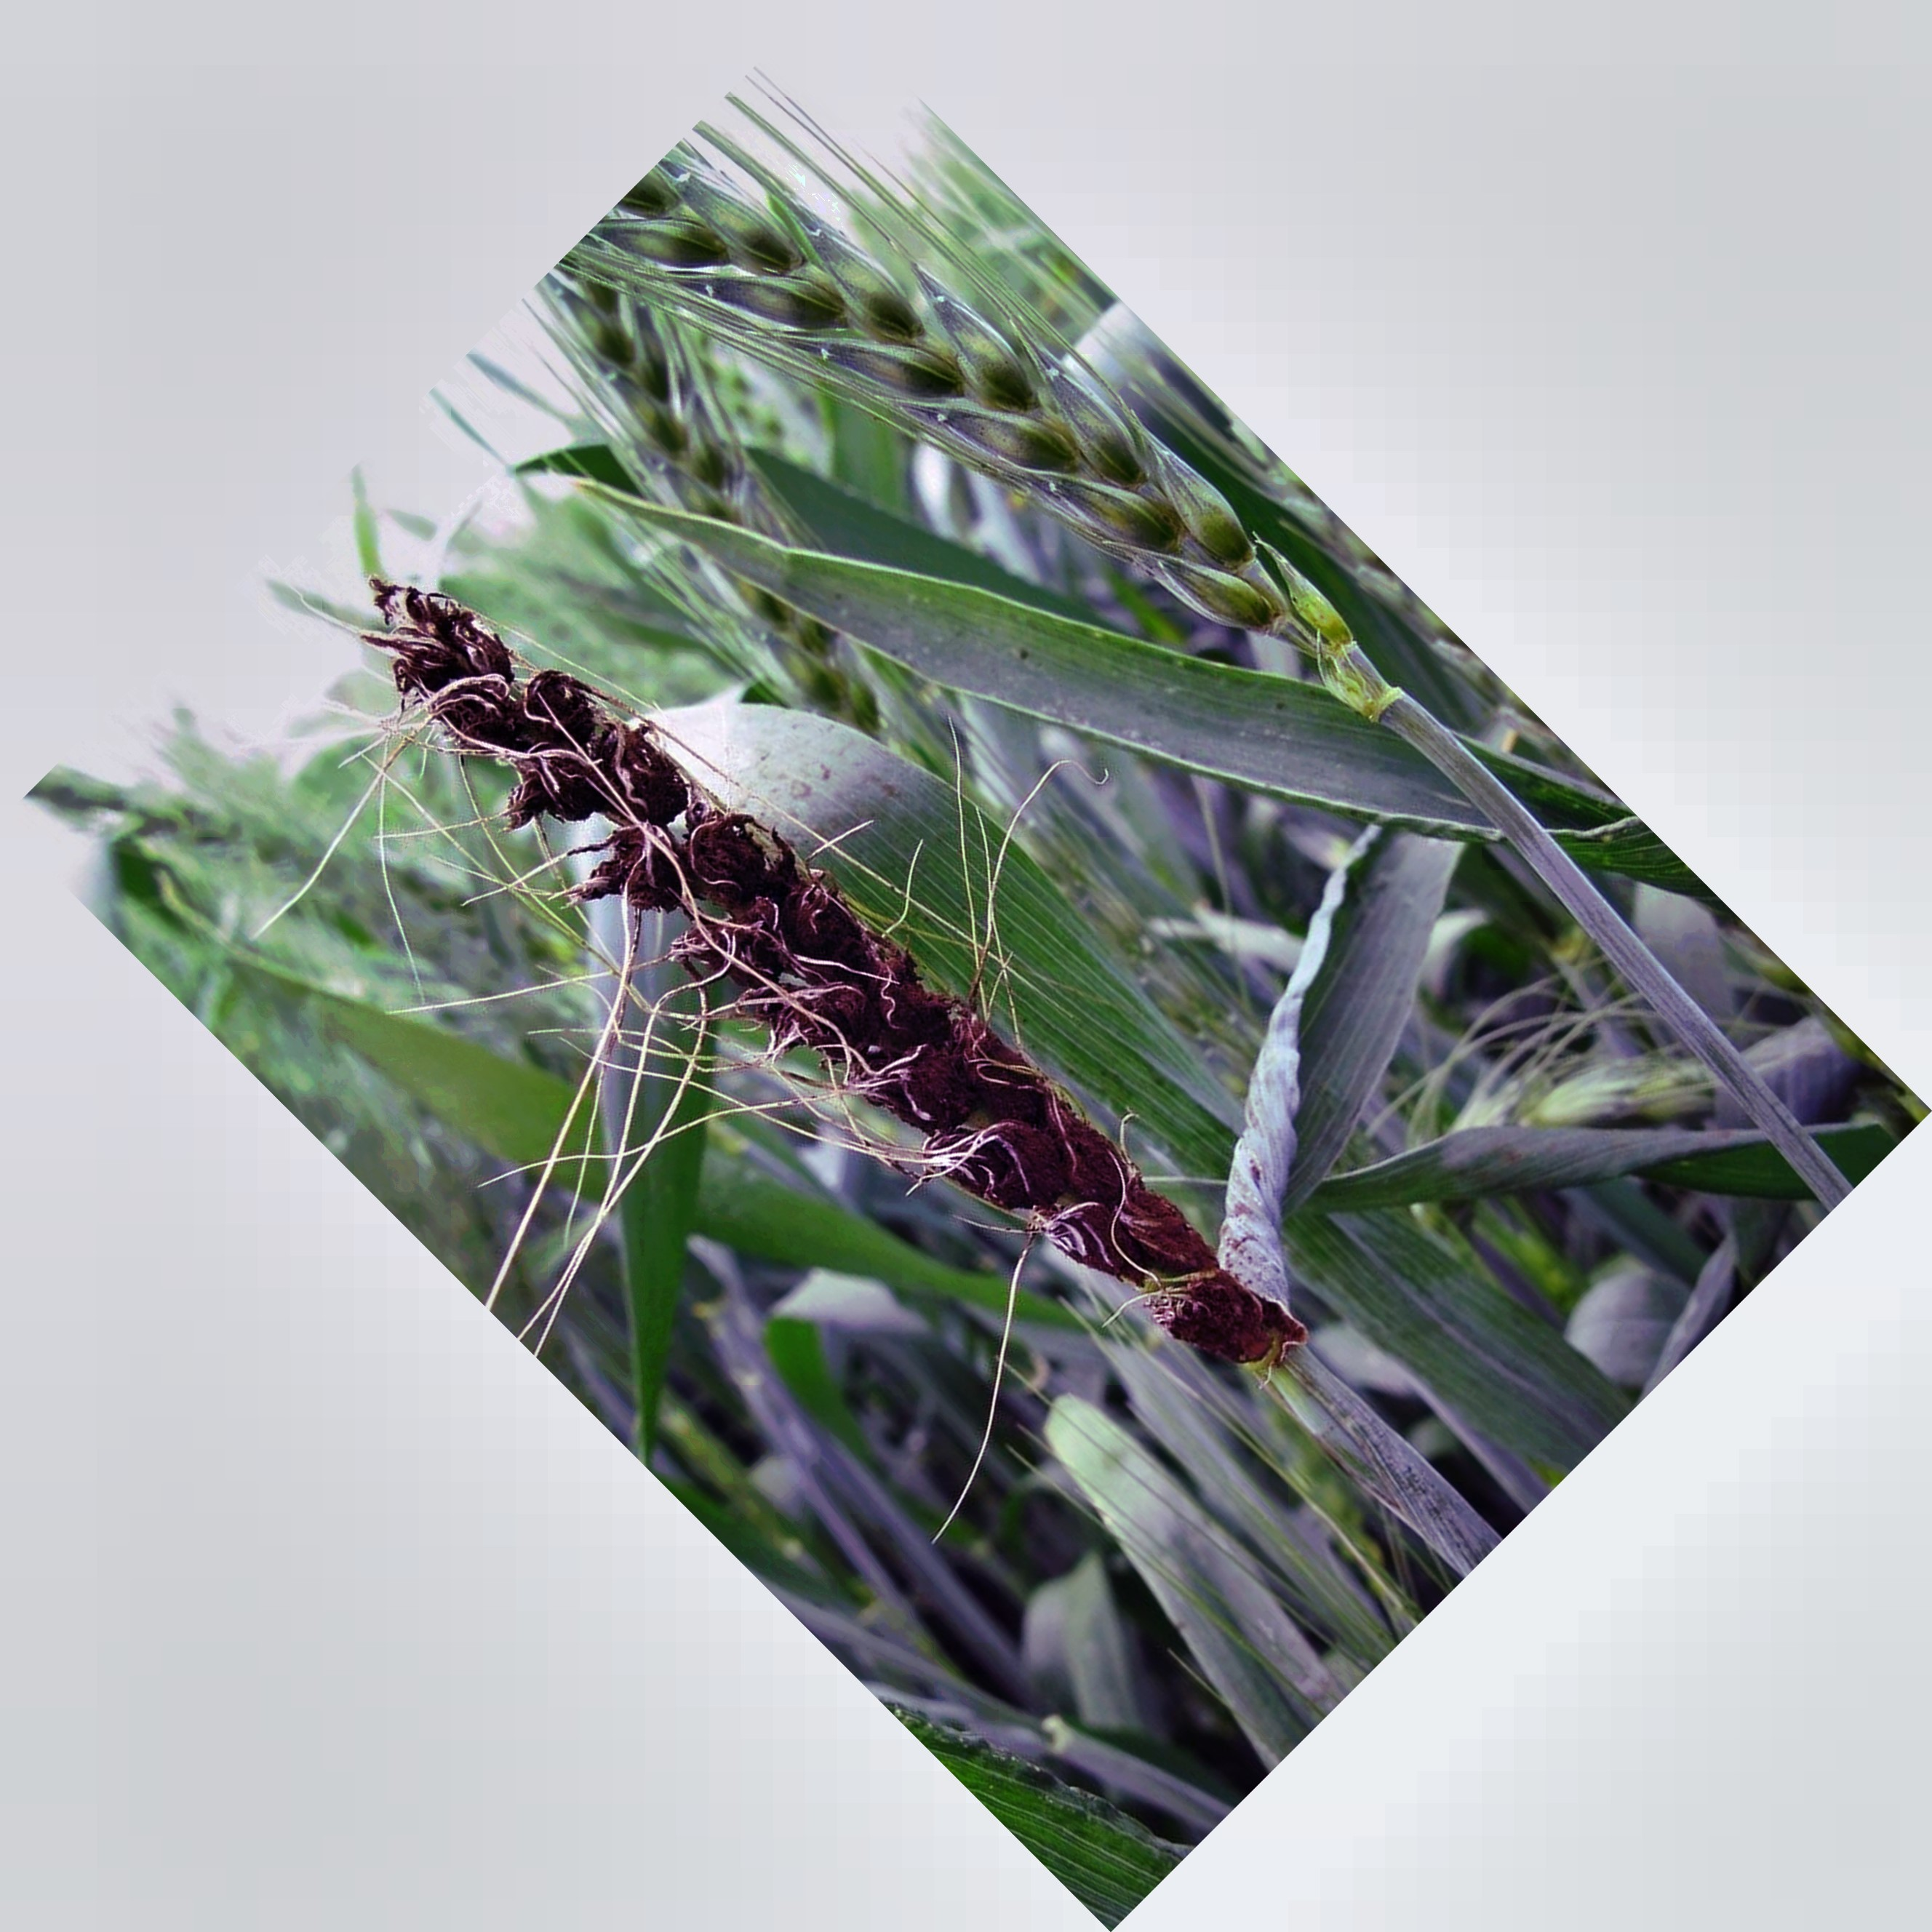Wheat Loose Smut: (350, 557, 1017, 1299)
